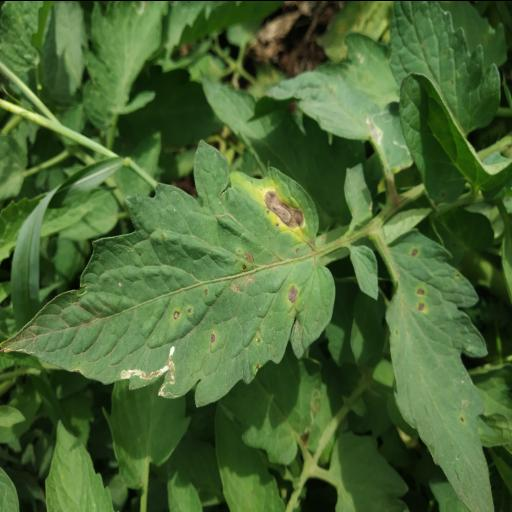disease_tomato: (0, 136, 336, 408), (386, 230, 496, 512)
